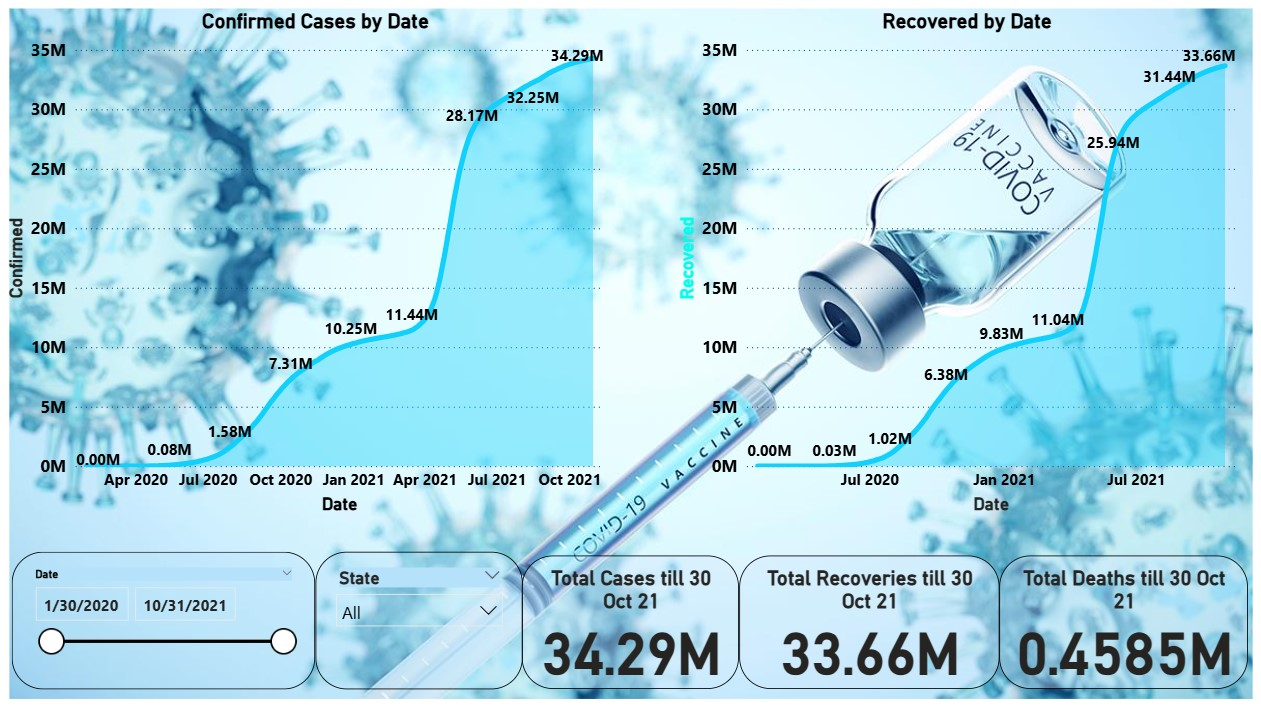

What the dashboard file says about the page in this screenshot:
{"tool":"powerbi","page":{"name":"Total","canvas":[1280,720],"ordinal":0},"visuals":[{"type":"areaChart","title":"Confirmed Cases by Date","fields":{"Category":["raw_data_Indian_states.Date"],"Y":["Sum(raw_data_Indian_states.Confirmed)"]},"box":[31.8,25.8,608.2,491.4],"z":0},{"type":"slicer","fields":{"Values":["raw_data_Indian_states.Date"]},"box":[42.2,548.9,293.2,132.7],"z":1000},{"type":"areaChart","title":"Recovered by Date","fields":{"Category":["raw_data_Indian_states.Date"],"Y":["Sum(raw_data_Indian_states.Recovered)"]},"box":[679.4,25.8,570.2,491.4],"z":2000},{"type":"card","title":"Total Cases till 30 Oct 21","fields":{"Values":["Max(raw_data_Indian_states.Confirmed)"]},"box":[534.5,552.5,209.9,129.1],"z":3000},{"type":"card","title":"Total Recoveries till 30 Oct 21","fields":{"Values":["Max(raw_data_Indian_states.Recovered)"]},"box":[744.4,552.5,250.9,129.1],"z":4000},{"type":"card","title":"Total Deaths till 30 Oct 21","fields":{"Values":["Max(raw_data_Indian_states.Deceased)"]},"box":[995.3,552.5,240.1,129.1],"z":5000},{"type":"slicer","fields":{"Values":["raw_data_Indian_states.State"]},"box":[335.4,548.9,200.3,132.7],"z":6000}]}

Visuals, with their boxes in screenshot pixels (x1, y1, x2, y2), scaled from the page's 1280x720 canvas onto the 1261x710 screenshot:
"Confirmed Cases by Date" areaChart: 31/25/630/510
slicer - raw_data_Indian_states.Date: 42/541/330/672
"Recovered by Date" areaChart: 669/25/1231/510
"Total Cases till 30 Oct 21" card: 527/545/733/672
"Total Recoveries till 30 Oct 21" card: 733/545/981/672
"Total Deaths till 30 Oct 21" card: 981/545/1217/672
slicer - raw_data_Indian_states.State: 330/541/528/672
